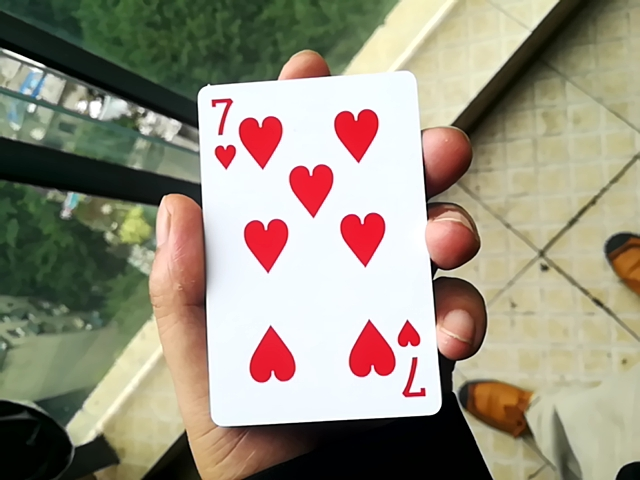hx 7: (185, 60, 431, 431)
